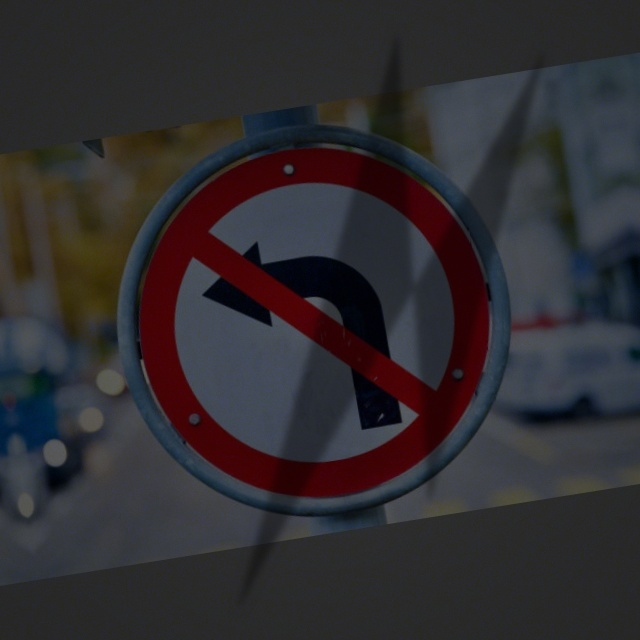Left_Turn_Prohibited: (91, 97, 537, 536)
